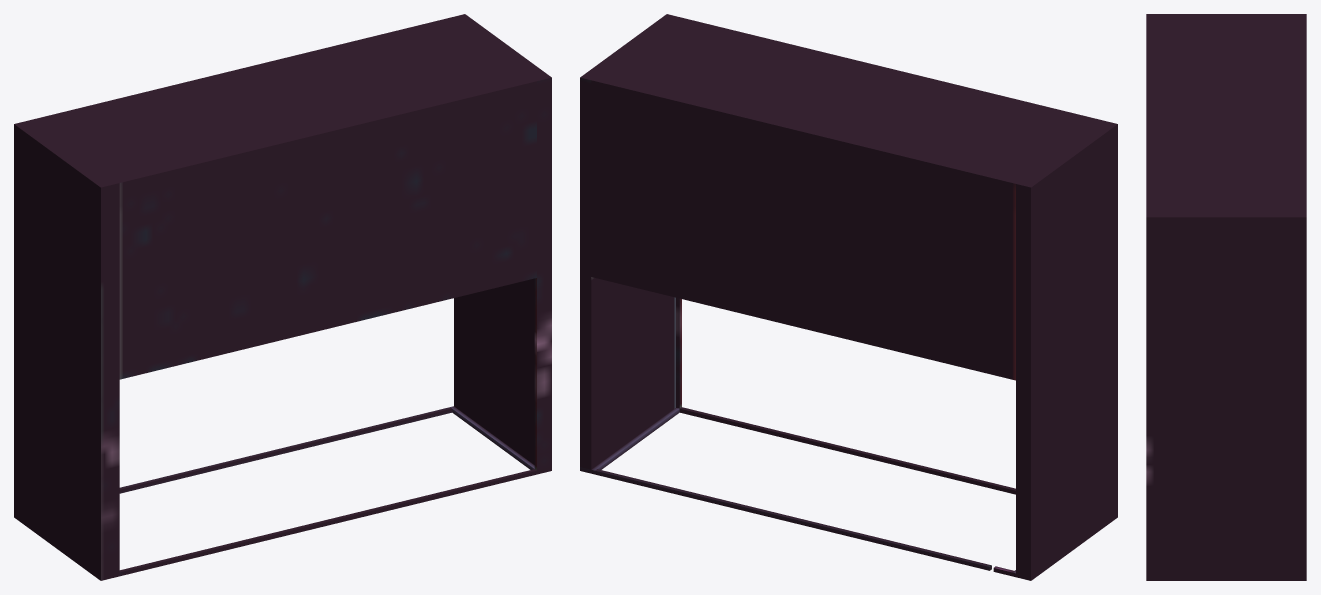
Rendered from BuildingModule_L_00.fbx.
3 renders of one model, left to right at view 1: azimuth 30°, elevation 25°; view 2: azimuth 150°, elevation 25°; view 3: azimuth 270°, elevation 25°, orthographic. The views are drawn at different scales.
Parts seen in each view (by area): view 1: BuildingModule_L_00; view 2: BuildingModule_L_00; view 3: BuildingModule_L_00.
Boxes of the visible parts, x1=… form: BuildingModule_L_00: x1=14, y1=14, x2=551, y2=580; BuildingModule_L_00: x1=580, y1=14, x2=1117, y2=580; BuildingModule_L_00: x1=1146, y1=14, x2=1306, y2=580.
Bounding box in the file's own units: 600 × 500 × 200.
